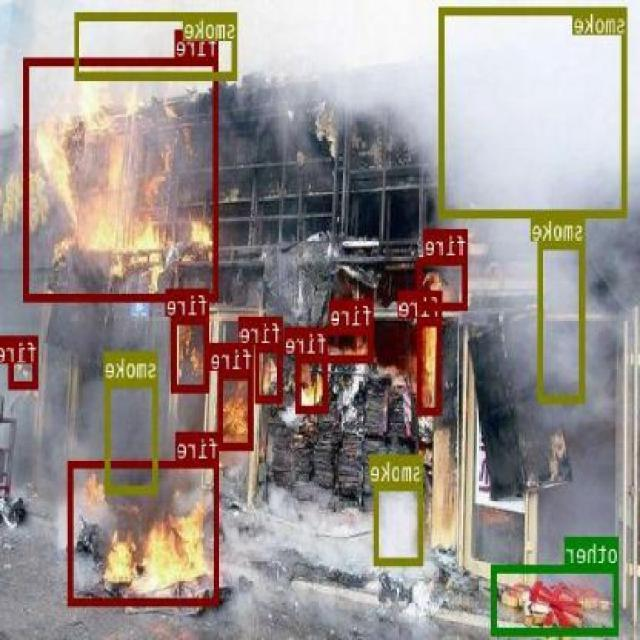Fire: (23, 56, 220, 301), (70, 458, 221, 604), (218, 370, 254, 450), (172, 316, 210, 390), (418, 256, 468, 310), (418, 316, 444, 413), (296, 354, 329, 412), (320, 327, 374, 361), (10, 334, 39, 388), (257, 343, 283, 402)
Smoke: (440, 7, 628, 216), (241, 66, 418, 138), (76, 10, 238, 78), (539, 241, 587, 402), (242, 501, 362, 559), (106, 379, 160, 492), (376, 482, 424, 564)
